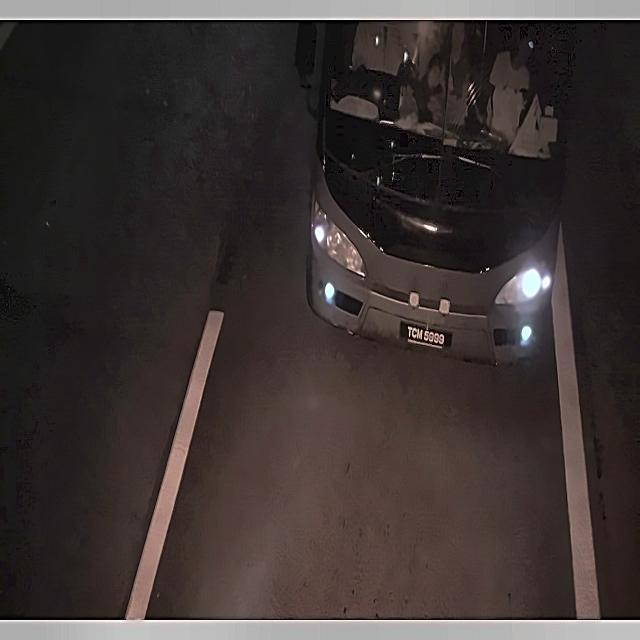car: (397, 316, 456, 354)
